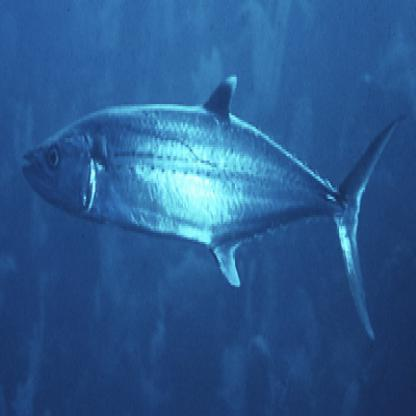tuna: (15, 64, 410, 356)
